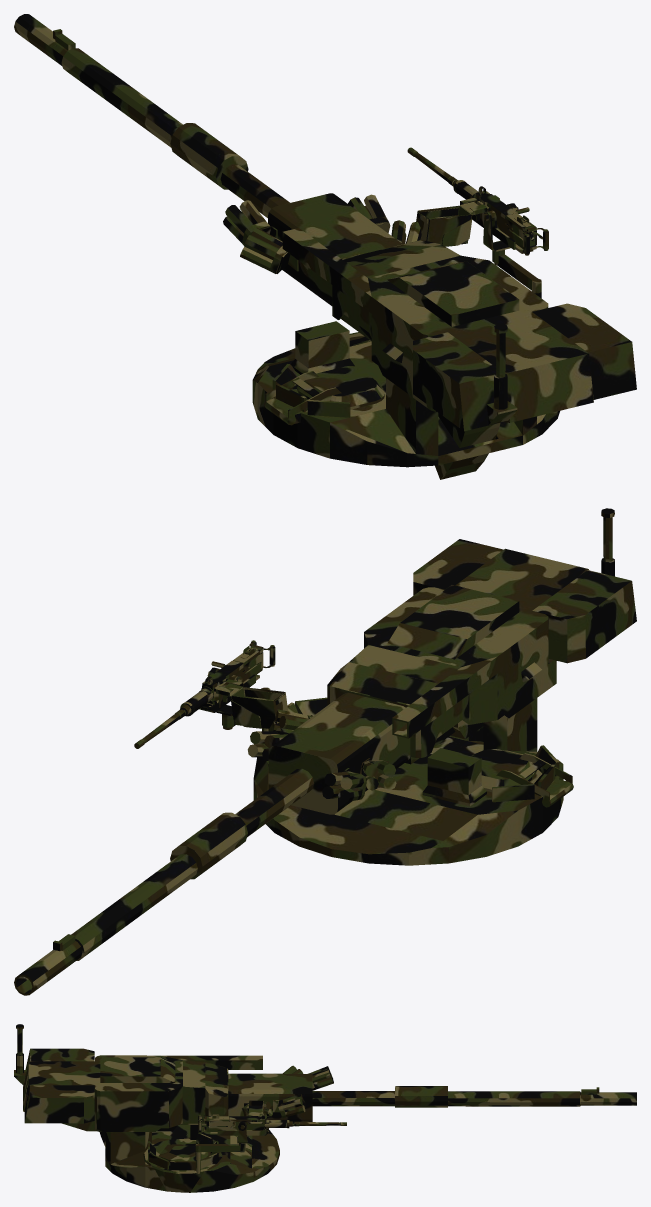
File: torreta.obj
3 renders of one model, top to bottom at view 1: azimuth 30°, elevation 25°; view 2: azimuth 150°, elevation 25°; view 3: azimuth 270°, elevation 25°, orthographic. The views are drawn at different scales.
Visible parts, largest first — view 1: Object18; view 2: Object18; view 3: Object18.
Boxes of the visible parts, x1=… form: Object18: x1=14, y1=14, x2=636, y2=479; Object18: x1=14, y1=508, x2=636, y2=995; Object18: x1=14, y1=1024, x2=636, y2=1192.
Bounding box in the file's own units: 3.88 × 2.85 × 11.93.
